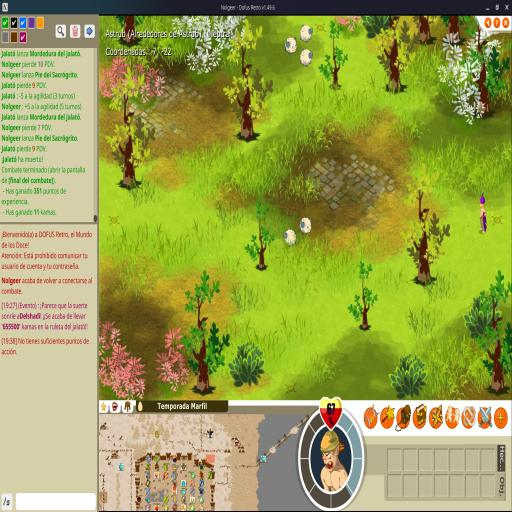Enemigos: (300, 24, 313, 44), (300, 48, 313, 68), (283, 228, 296, 248), (300, 216, 312, 236), (284, 37, 297, 55)
Personaje: (478, 192, 488, 234)
